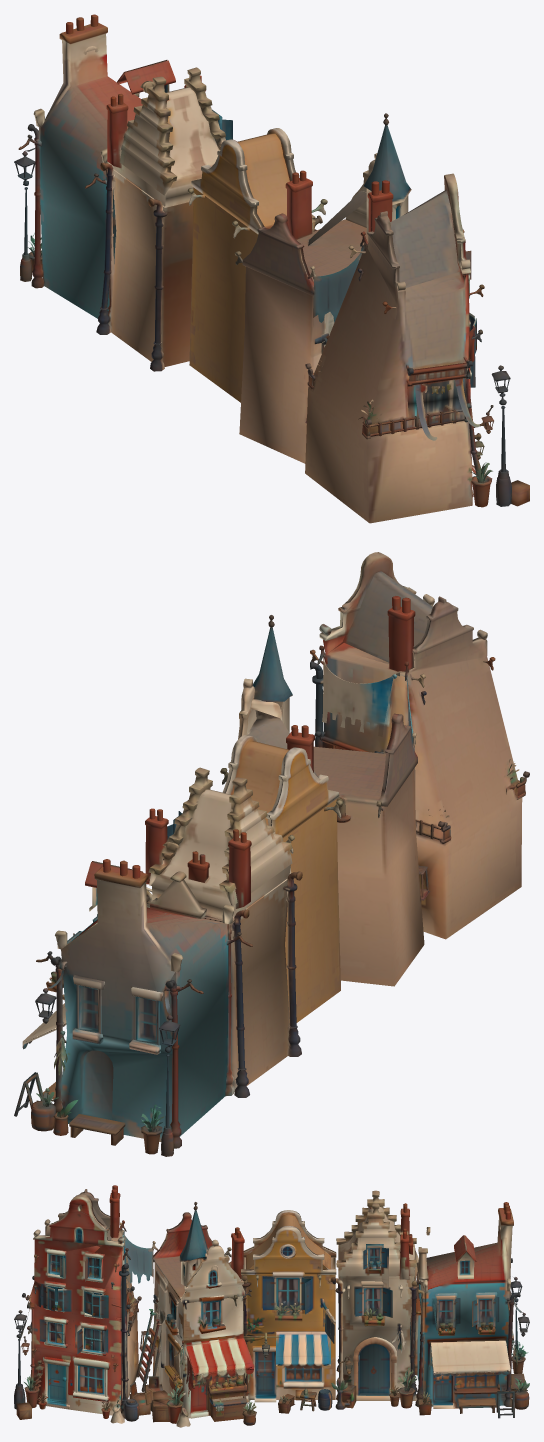
File: holland_house.fbx
The picture shows the model from 3 angles, top to bottom: view 1: azimuth 30°, elevation 25°; view 2: azimuth 150°, elevation 25°; view 3: azimuth 270°, elevation 25°; orthographic projection. The views are drawn at different scales.
Visible parts, largest first — view 1: tripo_686818d6_15a6_4fe6_a083_04f70e2c29cf; view 2: tripo_686818d6_15a6_4fe6_a083_04f70e2c29cf; view 3: tripo_686818d6_15a6_4fe6_a083_04f70e2c29cf.
Boxes of the visible parts, x1,y1,x2,y2 form: tripo_686818d6_15a6_4fe6_a083_04f70e2c29cf: (14,14,529,523); tripo_686818d6_15a6_4fe6_a083_04f70e2c29cf: (14,552,529,1156); tripo_686818d6_15a6_4fe6_a083_04f70e2c29cf: (14,1185,529,1427).
Size of the model in its own units: 0.314 by 0.4556 by 0.9995.
Materials: 1 (1 with a texture image).
